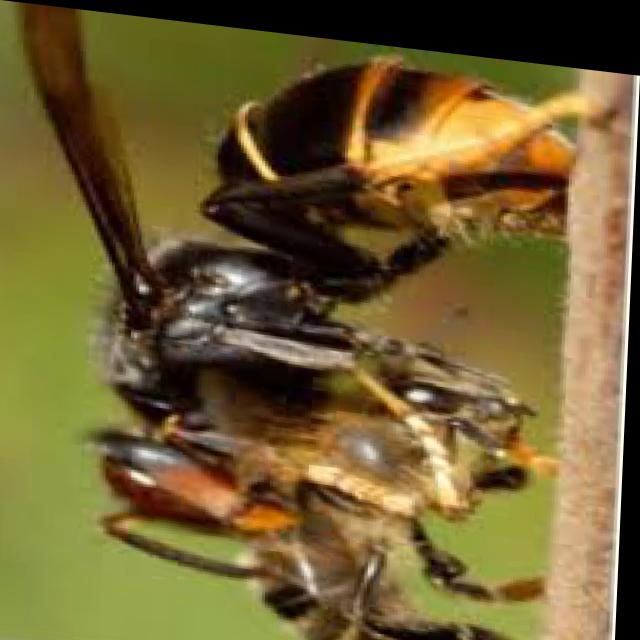Vespa Velutina: (0, 0, 588, 639)
